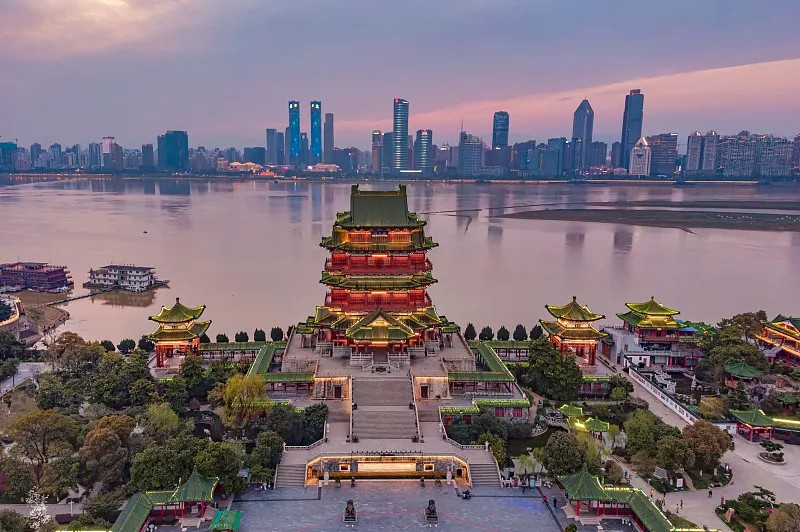Teng: (296, 185, 461, 351)
